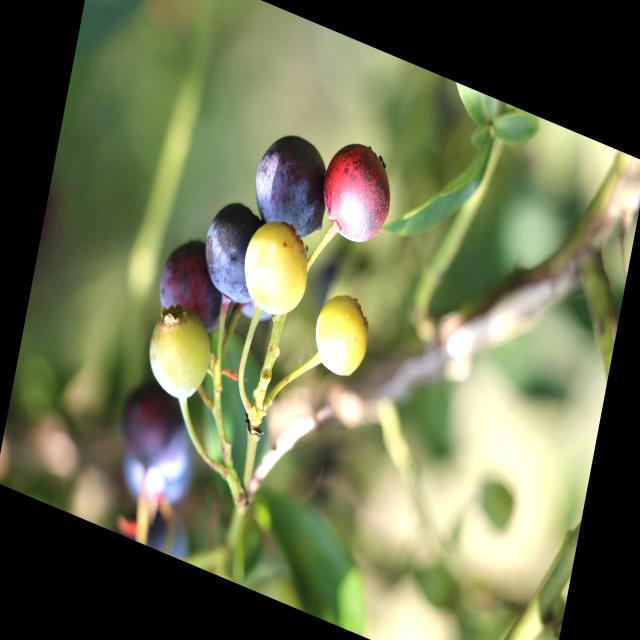blueberry: (238, 114, 340, 257), (190, 188, 270, 318)
blueberry-halfripe: (312, 130, 402, 260), (153, 229, 232, 336)
blueberry-unripe: (236, 210, 316, 326), (142, 300, 218, 411), (307, 286, 372, 384)
